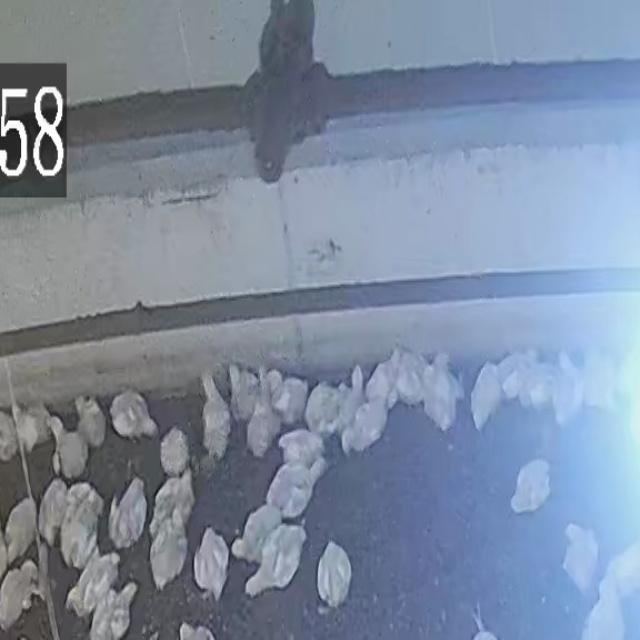chicken: (240, 520, 307, 600), (418, 354, 464, 433), (264, 461, 322, 519), (62, 551, 120, 608), (107, 475, 149, 553), (86, 579, 139, 640), (342, 394, 391, 457), (0, 560, 42, 630), (148, 519, 188, 592), (200, 372, 233, 460), (155, 466, 200, 527), (578, 347, 618, 415), (3, 494, 40, 567), (230, 497, 280, 551), (245, 390, 282, 460), (509, 456, 552, 516), (548, 352, 582, 426), (317, 541, 354, 607), (105, 389, 160, 433), (49, 418, 91, 473), (193, 530, 228, 594), (468, 364, 503, 426), (272, 374, 310, 427), (276, 429, 326, 469), (565, 520, 595, 584), (364, 353, 398, 407), (75, 394, 108, 448), (39, 477, 66, 542), (158, 426, 192, 476), (226, 364, 257, 417), (425, 9, 432, 10)
